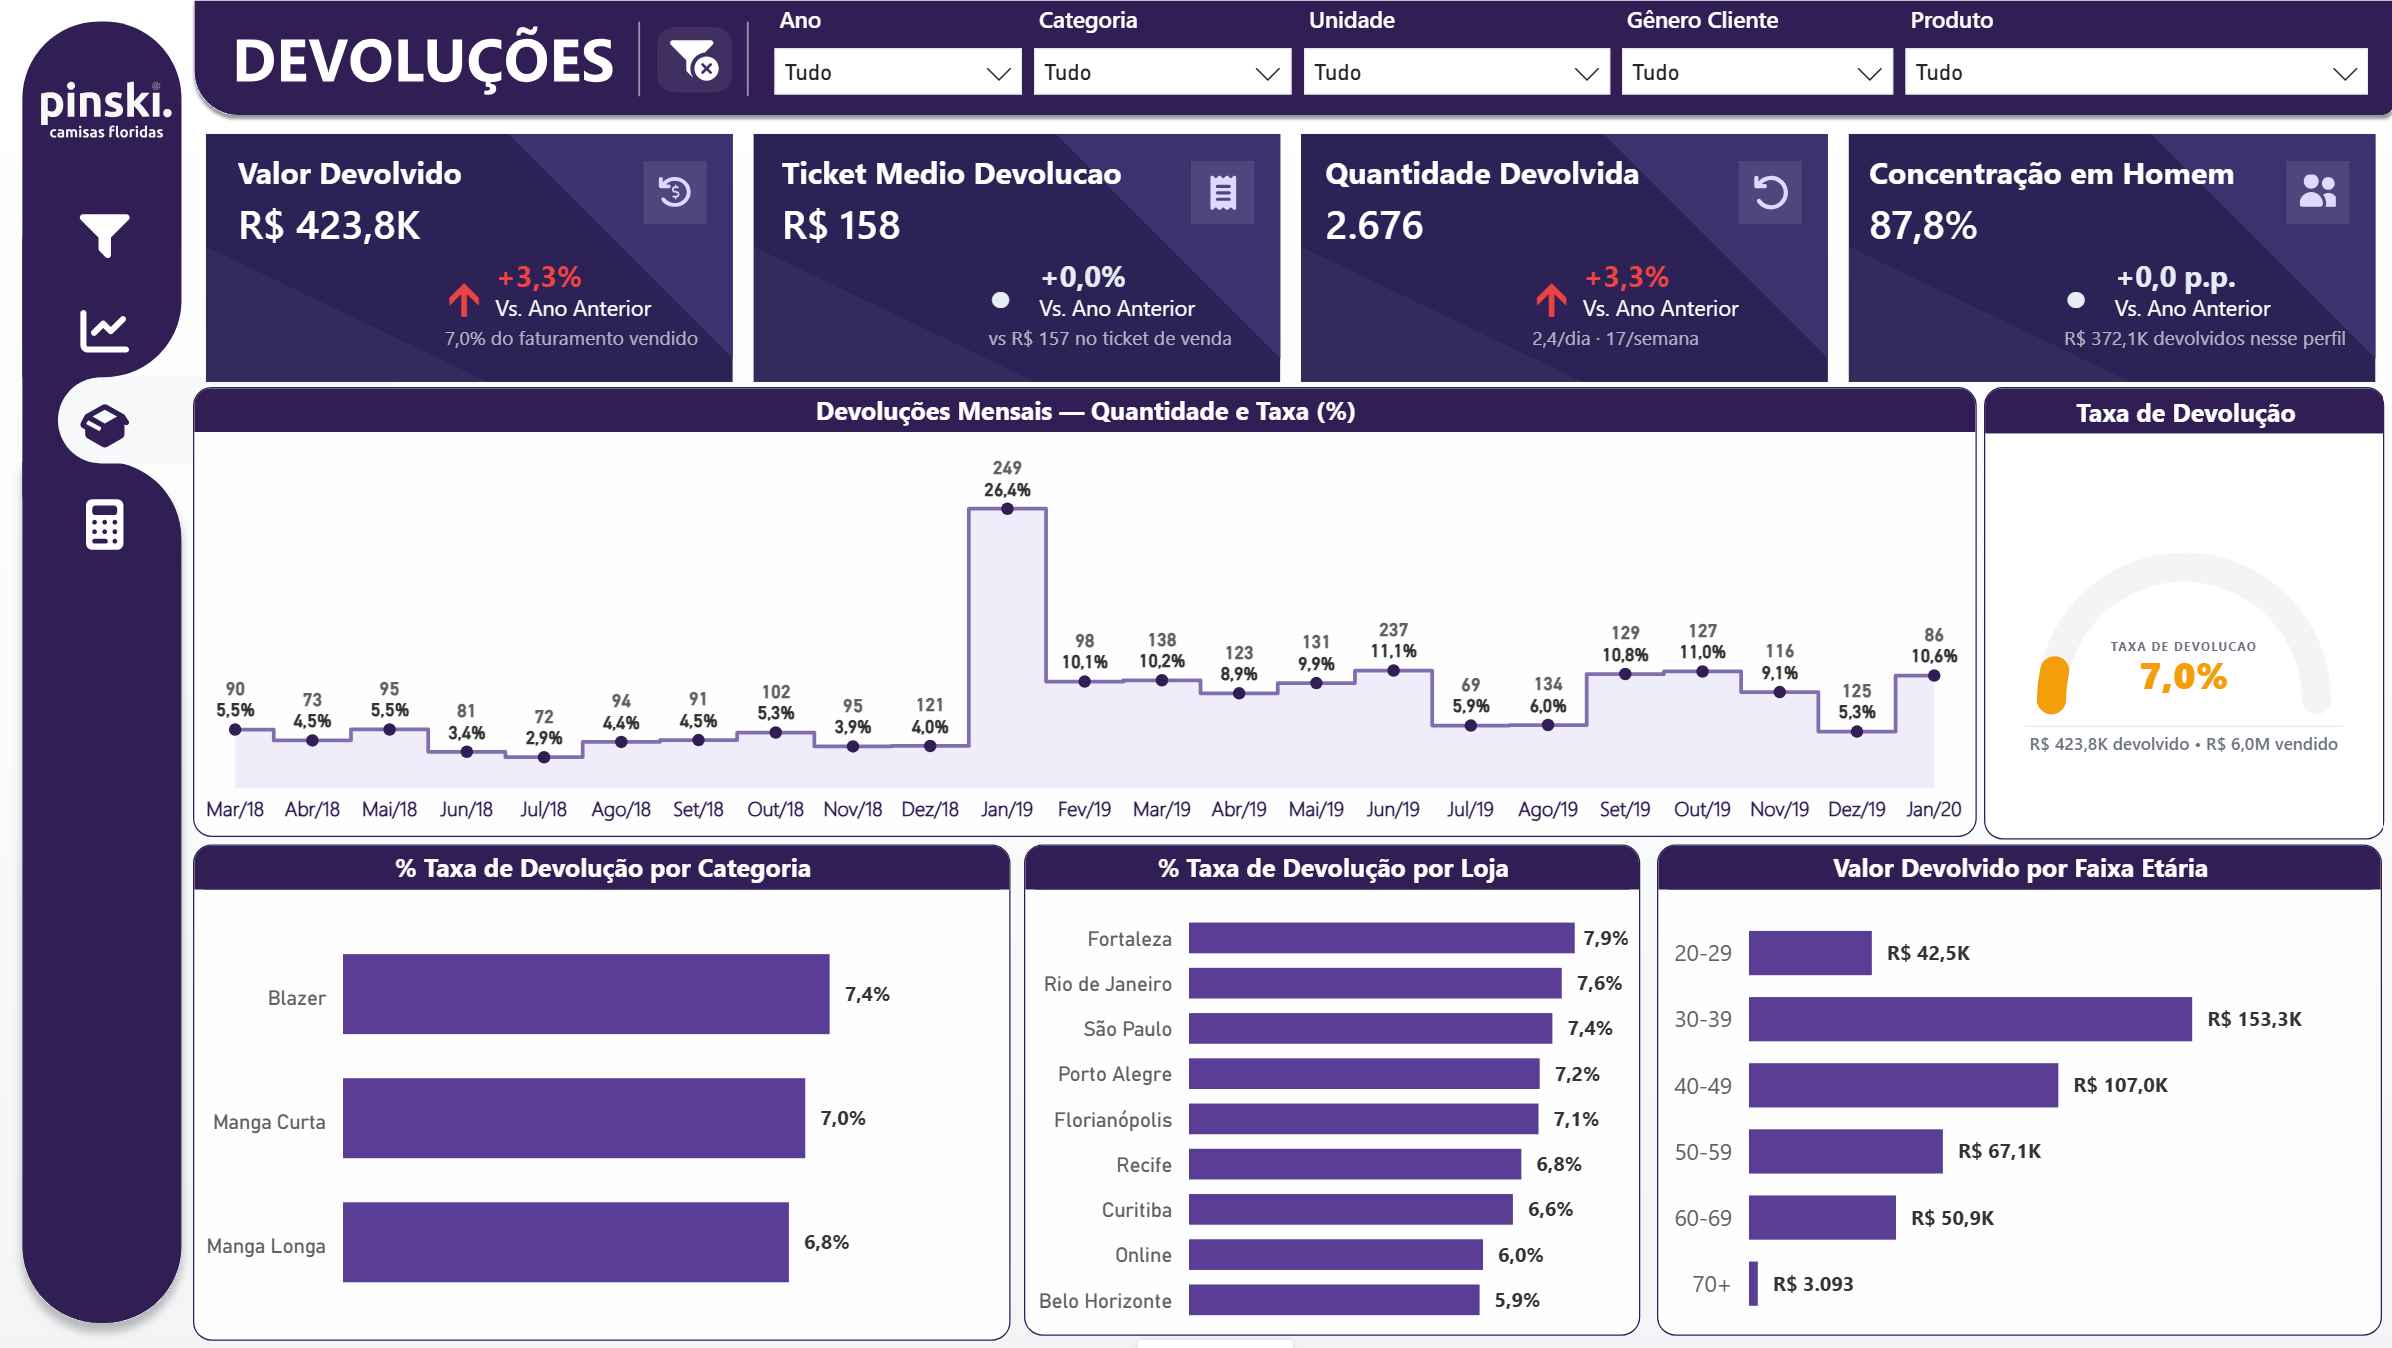

The page's visual inventory and layout, read from the dashboard file:
{"tool":"powerbi","page":{"name":"Devoluções","canvas":[1280,720],"ordinal":2},"visuals":[{"type":"group","id":"g1","title":"g_filtros","box":[408.4,2.4,860.3,59.2],"z":0,"group":"g2"},{"type":"group","id":"g2","title":"g_topbar","box":[408.4,2.4,860.3,59.2],"z":0},{"type":"slicer","title":"Produto","fields":{"Values":["Dim_Produto.Produto"]},"box":[1011.5,2.6,257.2,57.9],"z":0,"group":"g1"},{"type":"cardVisual","fields":{"Data":["_Medidas.Valor Devolvido","_Medidas.Ticket Medio Devolucao","_Medidas.Quantidade Devolvida","_Medidas.% Concentracao Perfil Lider"]},"box":[108,62.9,1171,141],"z":0,"group":"g3"},{"type":"actionButton","title":"btn_simulação","box":[35.5,261.1,42.3,41.3],"z":0,"group":"g4"},{"type":"slicer","title":"Gênero Cliente","fields":{"Values":["Fact_Vendas.GeneroCliente"]},"box":[860.4,2.6,154.8,57.9],"z":1000,"group":"g1"},{"type":"actionButton","title":"btn_reset_filtro_rapido","box":[416.3,9.1,51.1,41.9],"z":1000,"group":"g2"},{"type":"actionButton","title":"btn_devoluções","box":[35.6,203,42.2,41.1],"z":1000,"group":"g4"},{"type":"image","title":"Taxa de Devolução","box":[1059.3,206.5,214.1,241.2],"z":1000,"group":"g3"},{"type":"slicer","title":"Unidade","fields":{"Values":["Fact_Vendas.Unidade"]},"box":[690.6,2.6,173.6,57.9],"z":2000,"group":"g1"},{"type":"group","id":"g3","title":"g_dados","box":[104,62.9,1175,651.4],"z":2000},{"type":"actionButton","title":"btn_vendas","box":[35,155.2,42.2,41.3],"z":2000,"group":"g4"},{"type":"clusteredBarChart","title":"% Taxa de Devolução por Categoria","fields":{"Category":["Dim_Produto.Categoria","Dim_Produto.Produto"],"Y":["_Medidas.Taxa de Devolucao"]},"box":[104,449.7,436.2,264.6],"z":2000,"group":"g3"},{"type":"slicer","title":"Categoria","fields":{"Values":["Dim_Produto.Categoria"]},"box":[547,2.4,147.3,59.2],"z":3000,"group":"g1"},{"type":"group","id":"g4","title":"g_btn_navegacao","box":[19,33,75,269.4],"z":3000},{"type":"actionButton","title":"btn_menu_on","box":[35.8,104.2,42.1,41.1],"z":3000,"group":"g4"},{"type":"clusteredBarChart","title":"% Taxa de Devolução por Loja","fields":{"Category":["Fact_Vendas.Unidade"],"Y":["_Medidas.Taxa de Devolucao"]},"box":[547.5,449.7,328.7,262.2],"z":3000,"group":"g3"},{"type":"slicer","title":"Ano","fields":{"Values":["Dim_Calendario.Ano"]},"box":[408.4,2.4,142.3,59.2],"z":4000,"group":"g1"},{"type":"actionButton","title":"btn_home","box":[19,33,75,46.4],"z":4000,"group":"g4"},{"type":"lineChart","title":"Devoluções Mensais — Quantidade e Taxa (%)","fields":{"Category":["Calendario.MesAnoTexto"],"Y":["_Medidas.Taxa de Devolucao"]},"box":[104,206,951.1,240],"z":4000,"group":"g3"},{"type":"clusteredBarChart","title":"Valor Devolvido por Faixa Etária","fields":{"Category":["Fact_Vendas.FaixaEtaria"],"Y":["_Medidas.Valor Devolvido"]},"box":[884.4,450,386.7,262.2],"z":5000,"group":"g3"}]}

Visuals, with their boxes in screenshot pixels (x1, y1, x2, y2), scaled from the page's 1280x720 canvas onto the 2392x1348 screenshot:
"g_filtros" group: x1=763 y1=4 x2=2371 y2=115
"g_topbar" group: x1=763 y1=4 x2=2371 y2=115
"Produto" slicer: x1=1890 y1=5 x2=2371 y2=113
cardVisual - _Medidas.Valor Devolvido x _Medidas.Ticket Medio Devolucao: x1=202 y1=118 x2=2390 y2=382
"btn_simulação" actionButton: x1=66 y1=489 x2=145 y2=566
"Gênero Cliente" slicer: x1=1608 y1=5 x2=1897 y2=113
"btn_reset_filtro_rapido" actionButton: x1=778 y1=17 x2=873 y2=95
"btn_devoluções" actionButton: x1=67 y1=380 x2=145 y2=457
"Taxa de Devolução" image: x1=1980 y1=387 x2=2380 y2=838
"Unidade" slicer: x1=1291 y1=5 x2=1615 y2=113
"g_dados" group: x1=194 y1=118 x2=2390 y2=1337
"btn_vendas" actionButton: x1=65 y1=291 x2=144 y2=368
"% Taxa de Devolução por Categoria" clusteredBarChart: x1=194 y1=842 x2=1009 y2=1337
"Categoria" slicer: x1=1022 y1=4 x2=1297 y2=115
"g_btn_navegacao" group: x1=36 y1=62 x2=176 y2=566
"btn_menu_on" actionButton: x1=67 y1=195 x2=146 y2=272
"% Taxa de Devolução por Loja" clusteredBarChart: x1=1023 y1=842 x2=1637 y2=1333
"Ano" slicer: x1=763 y1=4 x2=1029 y2=115
"btn_home" actionButton: x1=36 y1=62 x2=176 y2=149
"Devoluções Mensais — Quantidade e Taxa (%)" lineChart: x1=194 y1=386 x2=1972 y2=835
"Valor Devolvido por Faixa Etária" clusteredBarChart: x1=1653 y1=842 x2=2375 y2=1333
